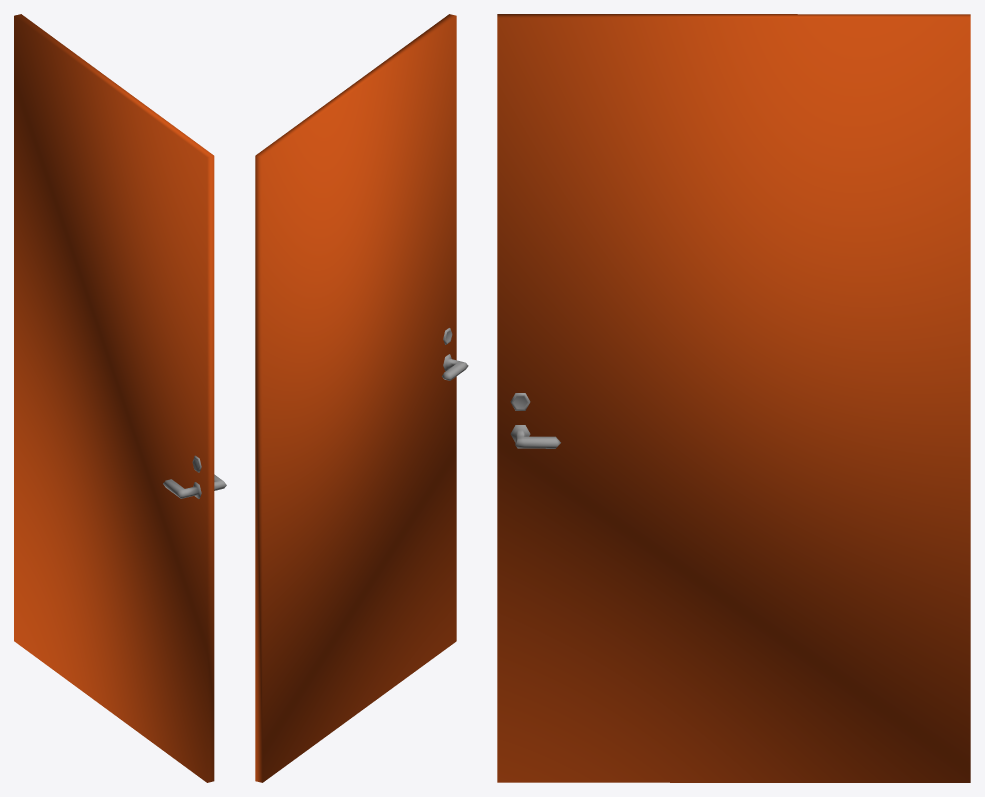
Rendered from TELLUS_arena_booth_door_2.FBX.
The picture shows the model from 3 angles, left to right: view 1: azimuth 30°, elevation 25°; view 2: azimuth 150°, elevation 25°; view 3: azimuth 270°, elevation 25°; orthographic projection. The views are drawn at different scales.
Parts seen in each view (by area): view 1: TELLUS_arena_booth_door_2; view 2: TELLUS_arena_booth_door_2; view 3: TELLUS_arena_booth_door_2.
Boxes of the visible parts, x1,y1,x2,y2 form: TELLUS_arena_booth_door_2: (14, 14, 226, 782); TELLUS_arena_booth_door_2: (255, 14, 468, 782); TELLUS_arena_booth_door_2: (497, 14, 970, 782).
Size of the model in its own units: 16.05 by 115 by 205.
